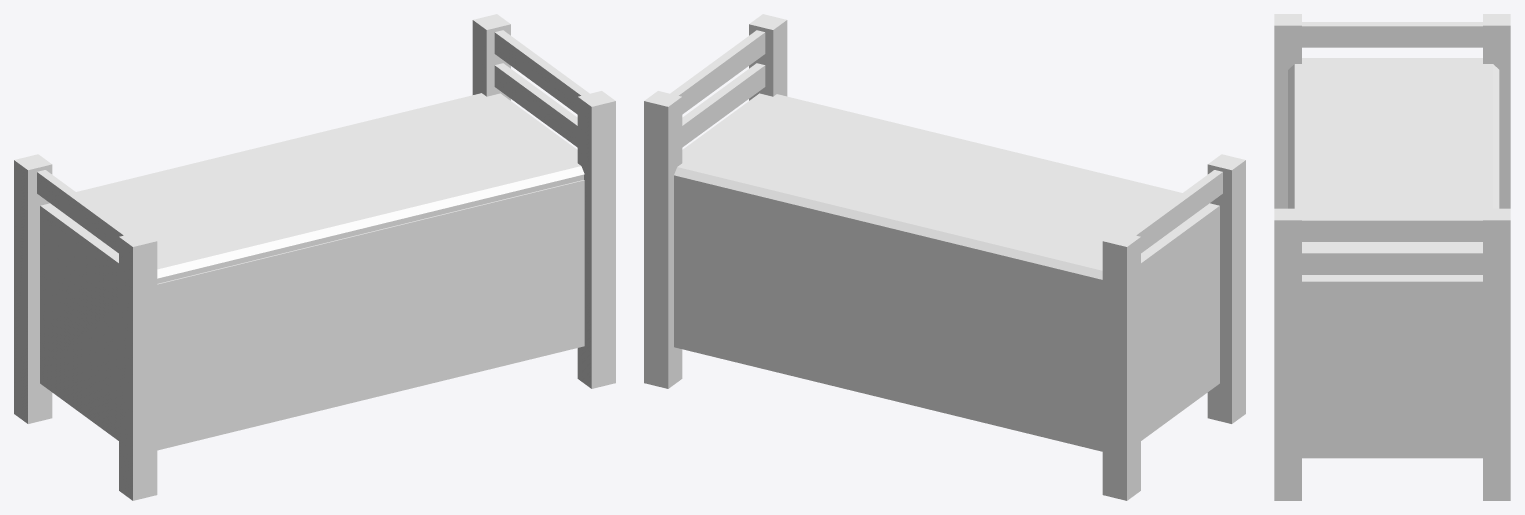
The model's file is Bench.fbx.
3 renders of one model, left to right at view 1: azimuth 30°, elevation 25°; view 2: azimuth 150°, elevation 25°; view 3: azimuth 270°, elevation 25°, orthographic.
Visible parts, largest first — view 1: polySurface2291; view 2: polySurface2291; view 3: polySurface2291.
Boxes of the visible parts, x1,y1,x2,y2 form: polySurface2291: (14, 14, 615, 500); polySurface2291: (644, 14, 1245, 500); polySurface2291: (1274, 14, 1510, 500).
Size of the model in its own units: 1.99 by 1.11 by 0.85.
1 material, 1 textured.
